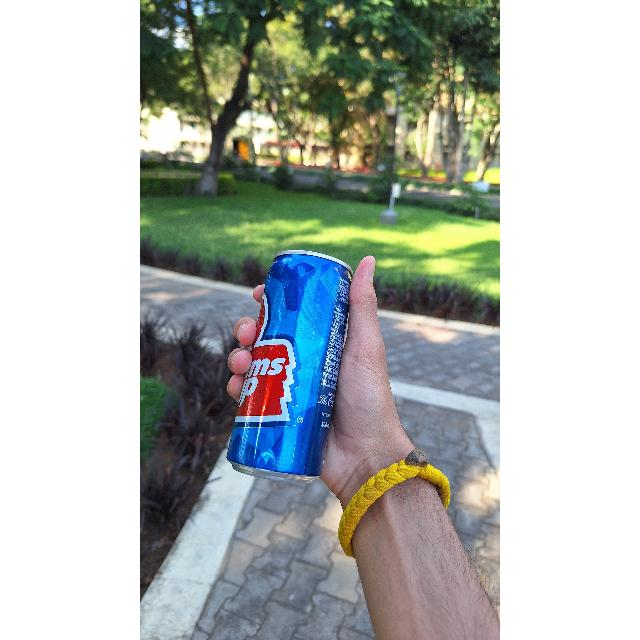Thums Up: (229, 248, 353, 482)
